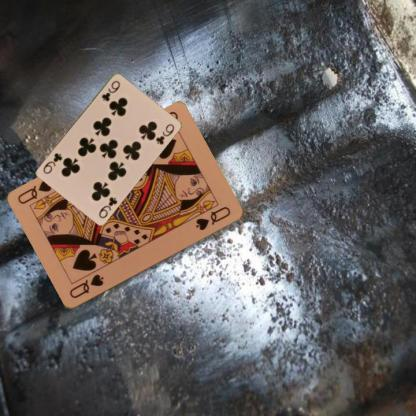9c: (96, 194, 118, 220), (99, 78, 121, 102)
Qs: (67, 272, 105, 300)
